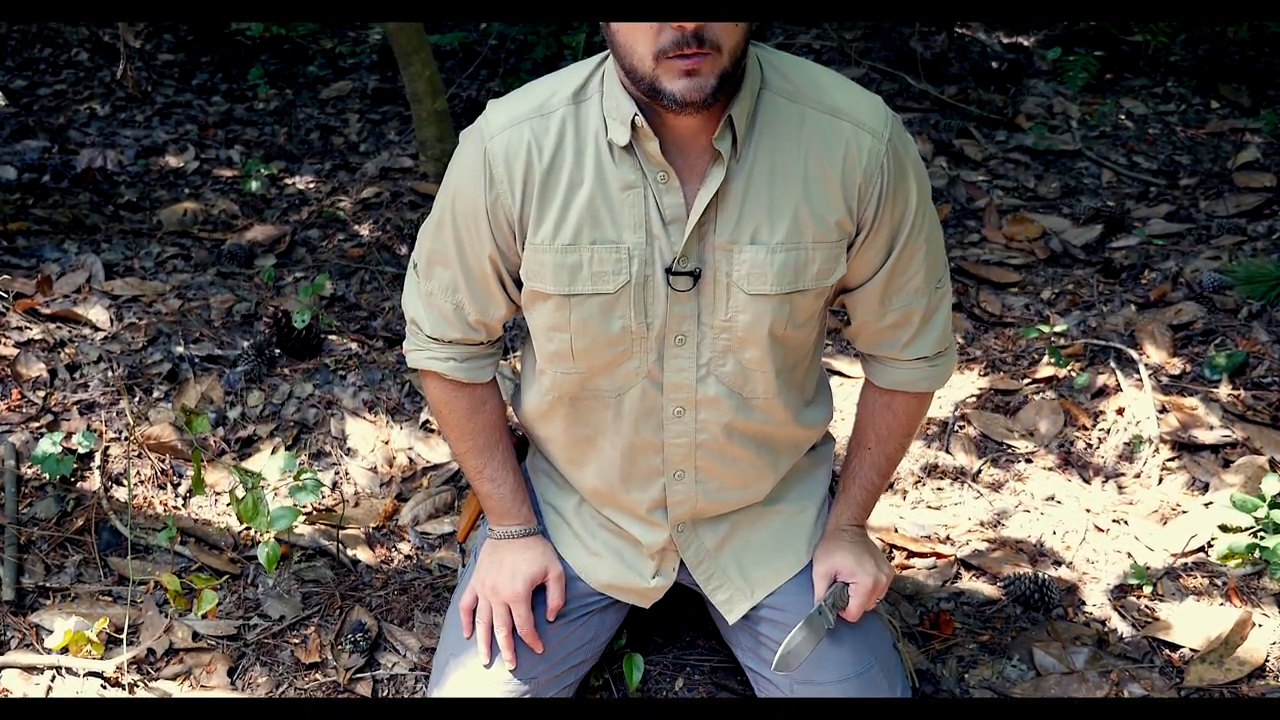knife: (762, 526, 902, 686)
